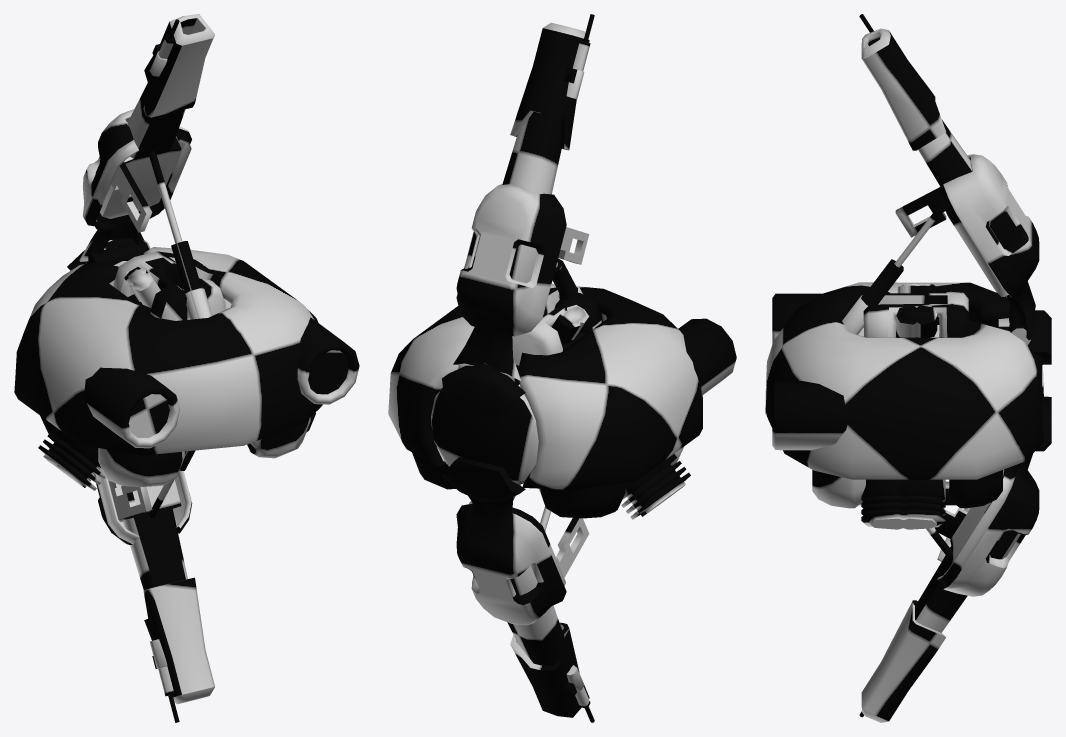
Rendered from pet_designs_pet_a_elite.obj.
3 views of the same model, side by side, from view 1: azimuth 30°, elevation 25°; view 2: azimuth 150°, elevation 25°; view 3: azimuth 270°, elevation 25° (orthographic).
Parts seen in each view (by area): view 1: pet_a_elite_ingame; view 2: pet_a_elite_ingame; view 3: pet_a_elite_ingame.
Boxes of the visible parts, <box> form: pet_a_elite_ingame: <box>14,14,359,722</box>; pet_a_elite_ingame: <box>388,14,736,722</box>; pet_a_elite_ingame: <box>765,14,1051,722</box>.
Size of the model in its own units: 42.83 by 115 by 42.44.
1 material, 1 textured.
